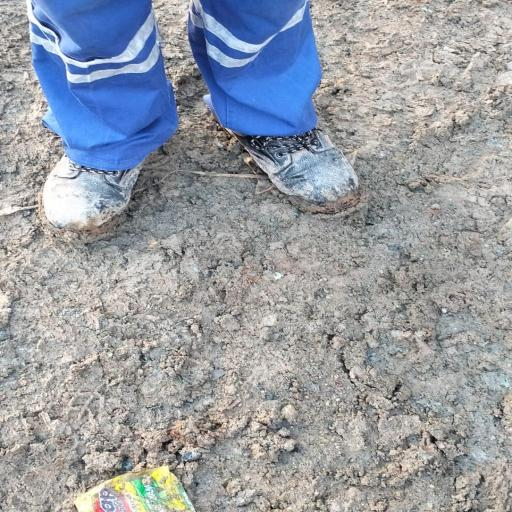safety_shoe: (226, 108, 374, 218), (44, 142, 164, 241)
